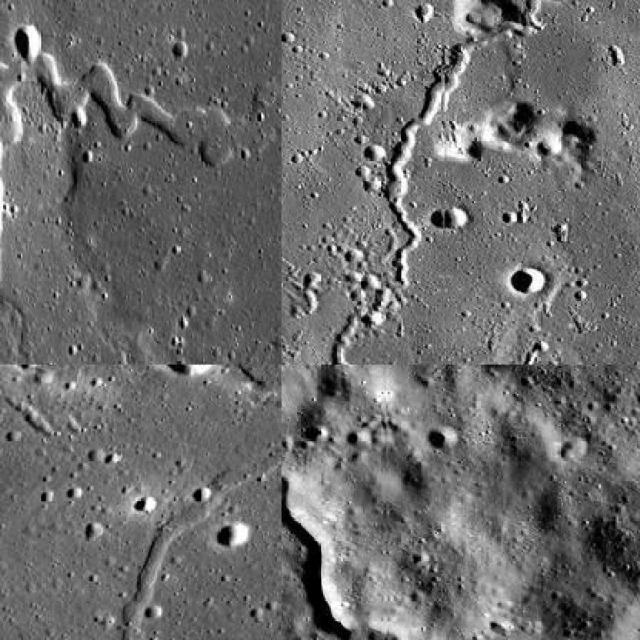rille: (331, 0, 589, 363), (0, 40, 280, 297), (82, 364, 280, 638), (282, 444, 436, 638)
